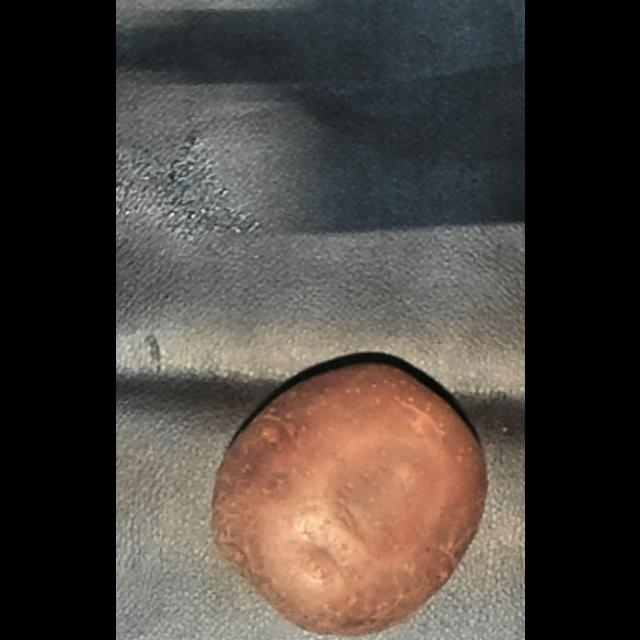Diseased-fungal potato: (184, 336, 502, 638)
